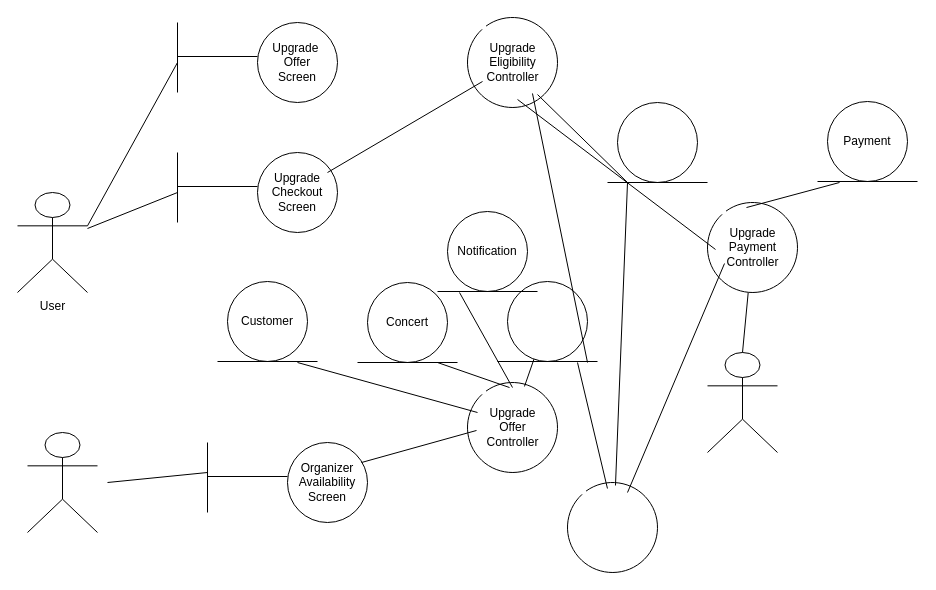
Image size: 936x590. Some labels were removed from this diagram. Each missing label, with the centre of its shape:
"Organizer" goes at (62,482).
"Payment System" goes at (742,402).
"Ticket" goes at (657,142).
"Ticket Type" goes at (547,321).
"Ticket Upgrade Controller" goes at (612,527).
